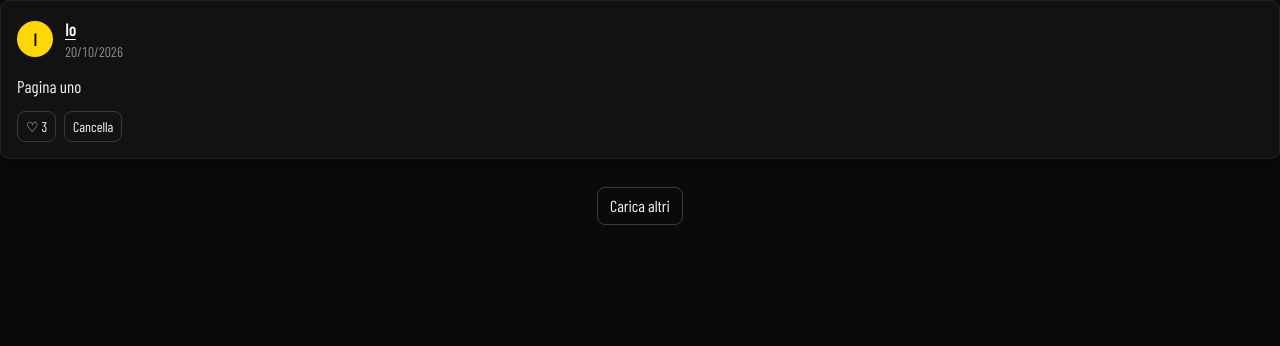
Scenario: MyPostsTab › «Carica altri» aggiunge la pagina dopo e sparisce all'ultima
The image size is (1280, 346).
Expected: the text "Pagina uno" is shown, [17,76,81,96]
Click the button "Carica altri" at (640, 206), box [597,187,683,225]
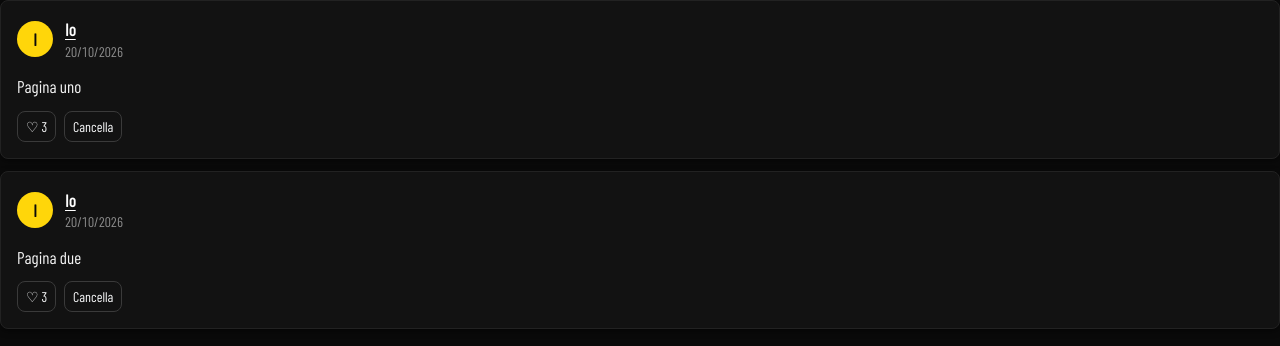
Expected: the text "Pagina due" is shown, [17,246,81,266]
Expected: the button "Carica altri" is gone
